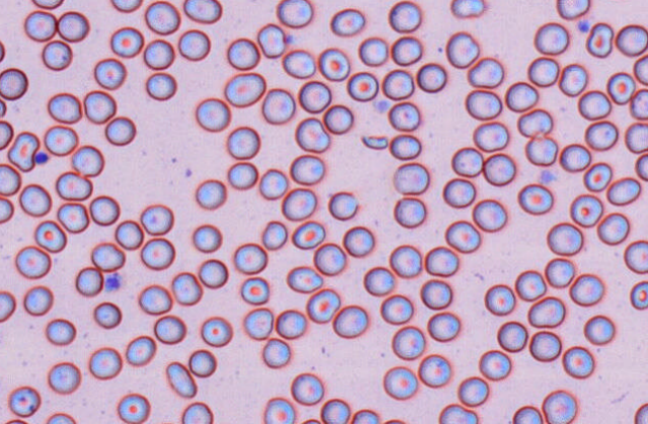PLT: (105, 274, 123, 292), (34, 151, 48, 165), (578, 18, 590, 33)
RBC: (224, 72, 265, 107), (7, 131, 39, 171), (14, 245, 51, 279), (261, 87, 295, 124), (546, 221, 583, 255), (445, 31, 479, 68), (295, 117, 330, 152), (382, 365, 417, 400), (444, 219, 480, 253), (332, 304, 368, 338), (541, 389, 577, 423), (393, 161, 429, 195), (144, 0, 180, 34), (533, 21, 569, 55), (527, 296, 565, 328), (306, 288, 340, 323), (391, 325, 425, 360), (472, 198, 507, 232), (195, 97, 230, 131), (467, 56, 504, 88), (465, 88, 502, 120), (417, 353, 451, 387), (569, 193, 603, 227), (281, 187, 316, 220), (140, 237, 175, 270), (569, 273, 604, 306), (165, 361, 196, 398), (226, 126, 260, 159), (47, 361, 81, 394), (88, 346, 122, 379), (226, 37, 260, 70), (83, 89, 116, 123), (517, 183, 553, 214), (472, 121, 508, 152), (71, 144, 104, 177), (313, 242, 346, 275), (298, 80, 331, 113), (290, 372, 323, 405), (482, 153, 515, 186), (18, 183, 51, 216), (177, 28, 210, 61), (596, 212, 629, 245), (389, 244, 422, 277), (233, 242, 267, 274), (424, 245, 458, 277), (318, 47, 350, 81), (562, 345, 594, 379), (289, 154, 324, 185), (43, 124, 78, 155), (47, 92, 82, 123), (256, 22, 286, 58), (55, 171, 92, 200), (34, 219, 66, 252), (7, 385, 40, 417), (140, 203, 173, 235), (393, 196, 426, 228), (93, 57, 126, 89), (615, 23, 647, 56), (388, 0, 421, 32), (381, 68, 414, 100), (171, 271, 202, 305), (138, 283, 172, 314), (504, 81, 538, 112), (116, 392, 150, 423), (109, 26, 143, 57), (577, 89, 611, 120), (584, 120, 618, 151), (606, 176, 641, 206), (57, 10, 89, 42), (514, 269, 546, 301), (524, 135, 557, 166), (23, 10, 56, 41), (478, 349, 511, 380), (380, 293, 413, 324), (442, 177, 475, 208), (91, 241, 125, 271), (517, 108, 552, 137), (330, 7, 365, 36), (286, 265, 322, 293), (57, 202, 89, 233), (342, 225, 374, 256), (496, 320, 527, 352), (200, 316, 232, 347), (420, 278, 452, 309), (529, 330, 561, 361), (583, 314, 615, 345), (484, 283, 515, 315), (527, 56, 559, 87), (451, 146, 483, 177), (153, 314, 186, 344), (427, 311, 460, 341), (387, 101, 420, 131), (291, 220, 325, 249), (585, 22, 613, 57), (276, 0, 312, 27), (195, 178, 226, 209), (41, 39, 72, 70), (275, 308, 306, 339), (125, 335, 156, 366), (143, 38, 174, 69), (89, 194, 120, 225), (544, 257, 575, 288), (457, 376, 489, 406), (104, 115, 136, 145), (243, 307, 273, 339), (390, 35, 422, 65), (346, 71, 378, 101), (558, 63, 587, 96), (606, 71, 635, 104), (282, 49, 315, 78), (323, 103, 353, 134), (363, 266, 394, 296), (559, 143, 591, 172), (0, 67, 28, 100), (23, 285, 53, 315), (198, 258, 228, 288), (416, 62, 446, 92), (358, 36, 388, 66), (259, 168, 288, 199), (114, 219, 143, 250), (261, 337, 290, 368), (583, 161, 612, 192), (183, 0, 222, 23), (192, 223, 222, 252), (328, 191, 358, 220), (227, 161, 258, 189), (145, 72, 176, 100), (45, 317, 76, 345), (389, 133, 421, 160), (240, 276, 269, 305), (75, 266, 103, 296), (623, 239, 647, 274), (263, 397, 295, 423), (188, 348, 216, 377), (438, 403, 477, 423), (261, 220, 287, 250), (93, 301, 121, 328), (320, 398, 350, 423), (624, 122, 647, 153), (181, 401, 213, 423), (0, 163, 21, 196), (556, 0, 589, 19), (450, 0, 484, 18), (512, 405, 543, 423), (629, 280, 647, 310), (630, 88, 647, 119), (0, 290, 16, 322), (633, 54, 647, 85), (351, 408, 379, 423), (0, 119, 13, 150), (0, 195, 14, 223), (110, 0, 142, 12), (635, 152, 647, 181), (45, 412, 76, 423), (31, 0, 63, 9), (634, 402, 647, 423), (0, 98, 7, 117), (4, 418, 28, 423), (382, 418, 406, 423), (0, 39, 5, 62), (300, 418, 321, 423)
Schistocyte: (361, 134, 390, 152)
